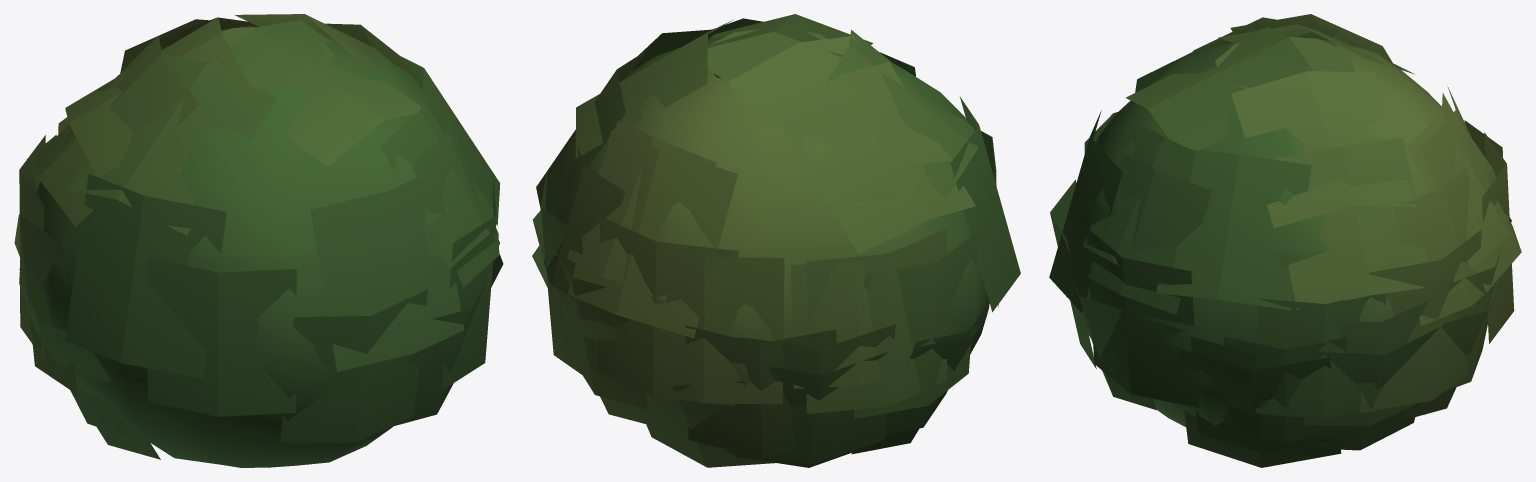
The model's file is hedge_box.glb.
3 renders of one model, left to right at view 1: azimuth 30°, elevation 25°; view 2: azimuth 150°, elevation 25°; view 3: azimuth 270°, elevation 25°, orthographic. The views are drawn at different scales.
Parts seen in each view (by area): view 1: isl_hedge_box; view 2: isl_hedge_box; view 3: isl_hedge_box.
Part boxes in pixels (x1,y1,x2,y2): isl_hedge_box: (14,14,503,467); isl_hedge_box: (532,14,1020,467); isl_hedge_box: (1049,14,1521,467).
Bounding box in the file's own units: 0.7512 × 0.6824 × 0.7585.
